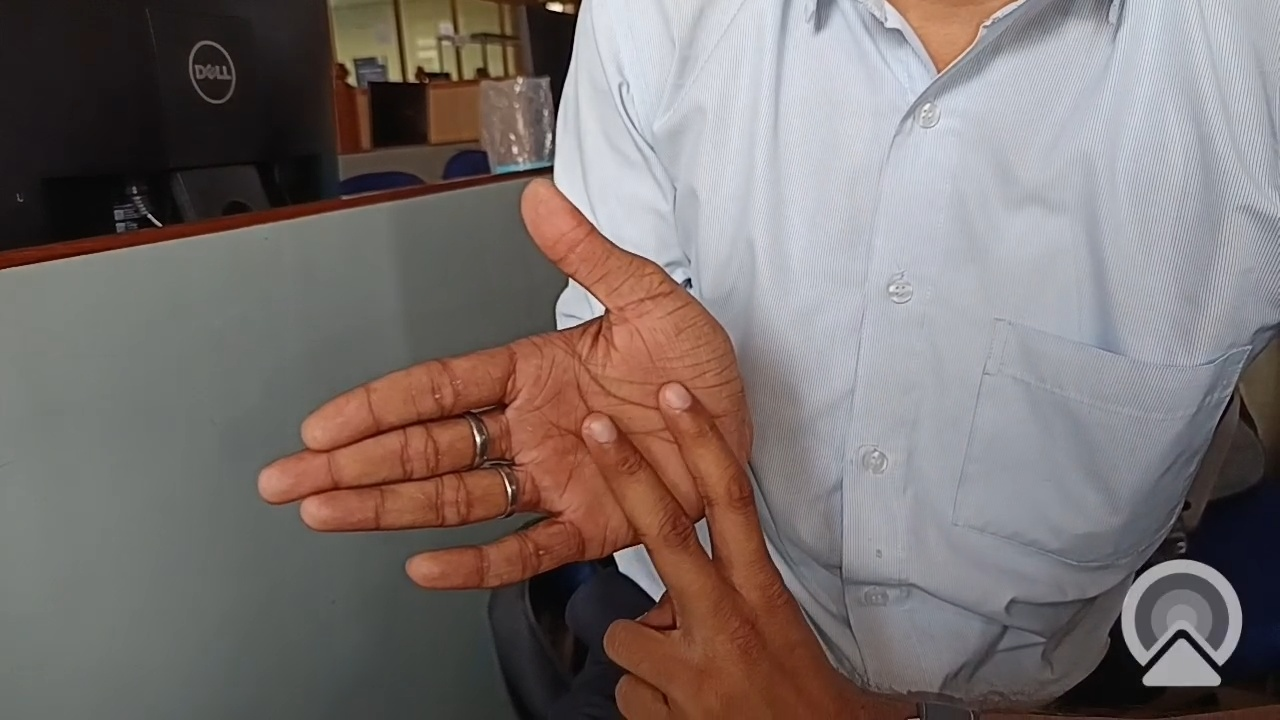N: (224, 132, 923, 720)
